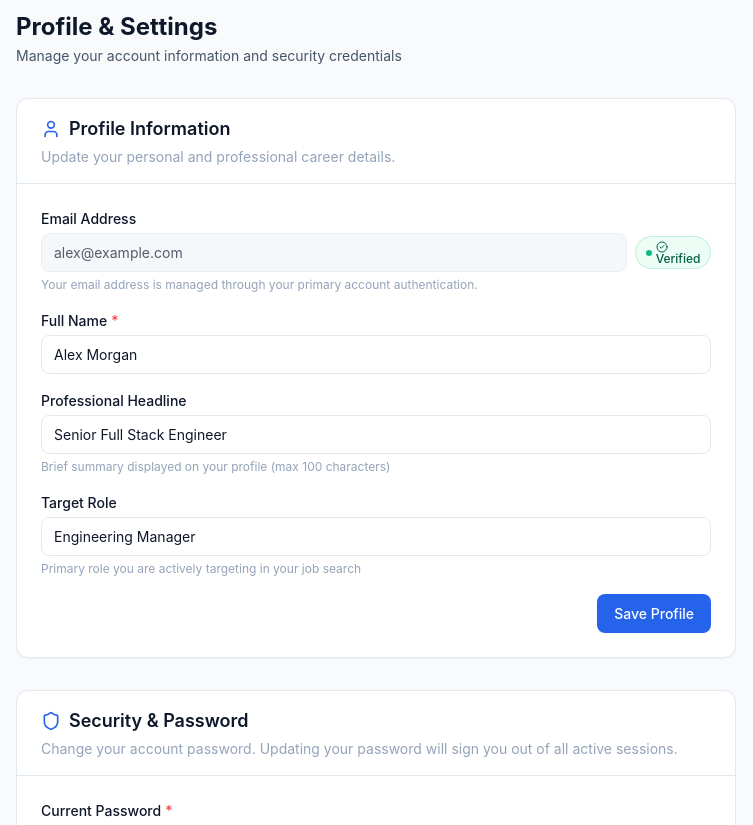
Test: ProfilePage Component (Phase 6.5C) › 14. handles backend field validation errors on profile update
Expected: the field labelled "Full Name *" holds "Alex Morgan", [41, 335, 711, 374]
Click the button "Save Profile" at (654, 614), box [597, 594, 711, 633]
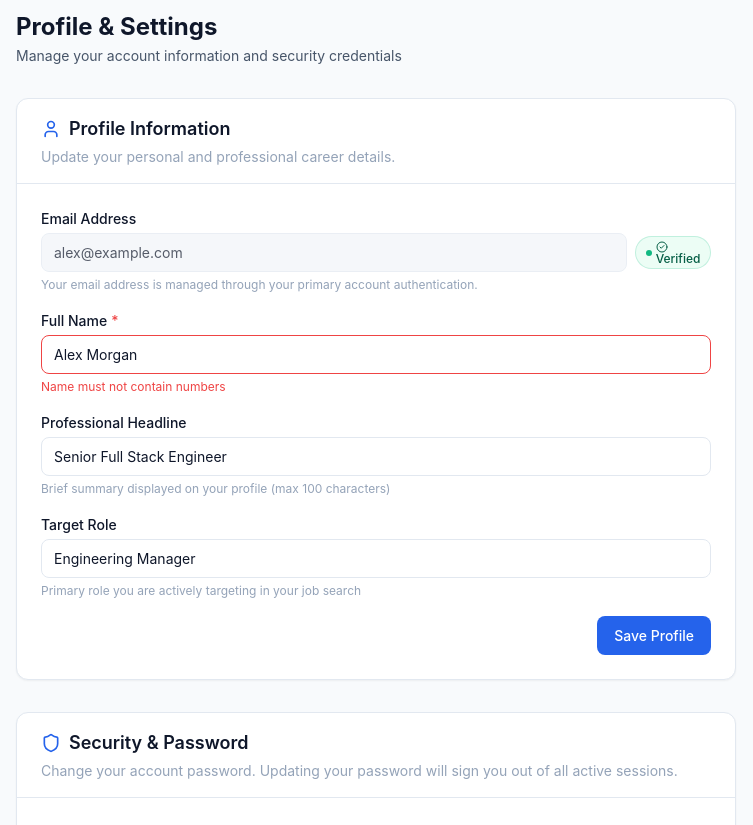
Expected: the text "Name must not contain numbers" is shown, [41, 379, 226, 394]
